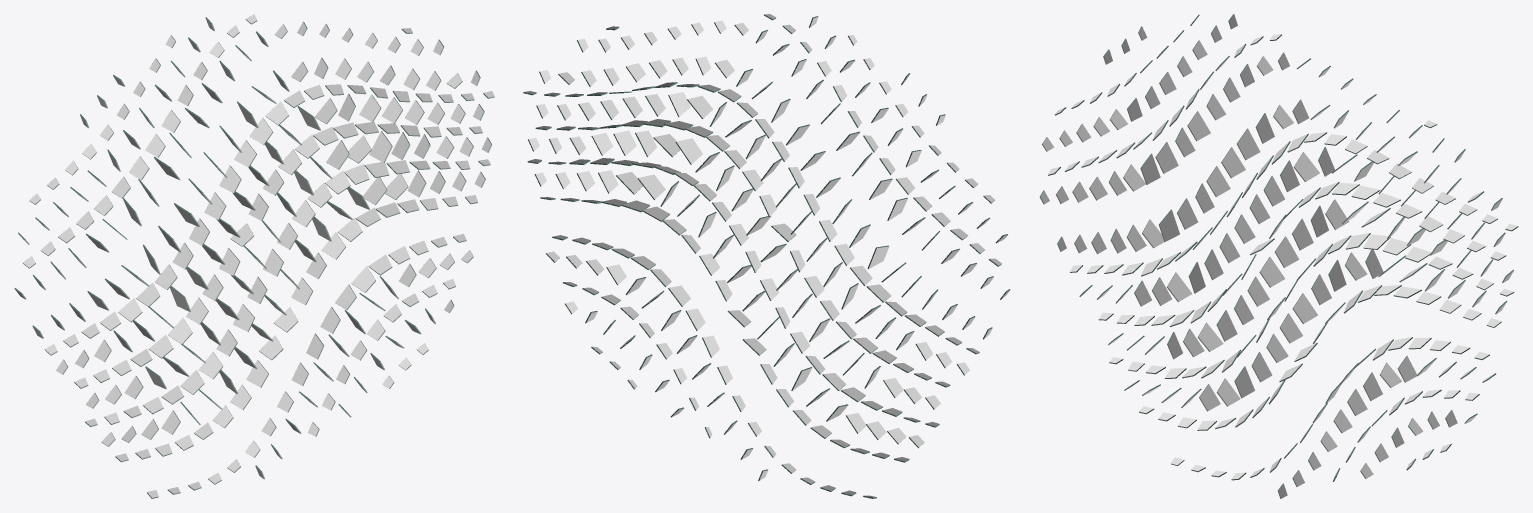
3 views of the same model, side by side, from view 1: azimuth 30°, elevation 25°; view 2: azimuth 150°, elevation 25°; view 3: azimuth 330°, elevation 25° (orthographic).
Visible parts, largest first — view 1: fins; view 2: fins; view 3: fins.
Part boxes in pixels (x1,y1,x2,y2): fins: [14, 14, 494, 498]; fins: [523, 14, 1010, 498]; fins: [1039, 14, 1518, 498].
Bounding box in the file's own units: 1.34 × 1.26 × 0.0605.
